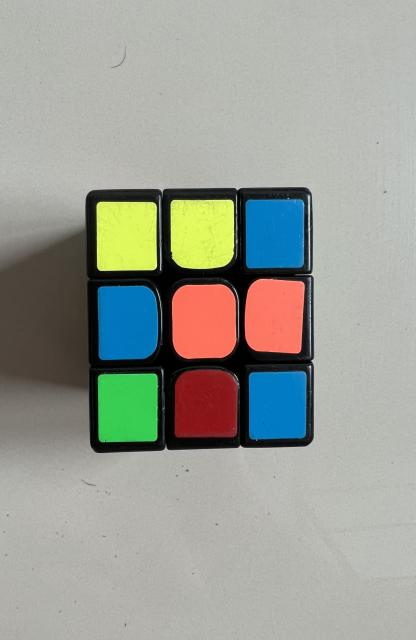Blue: (98, 286, 158, 360), (246, 199, 304, 269), (249, 371, 307, 440)
Green: (98, 374, 158, 442)
Orange: (172, 284, 236, 359), (245, 279, 304, 354)
Red: (174, 369, 238, 438)
Yellow: (170, 200, 234, 269), (96, 201, 157, 271)
